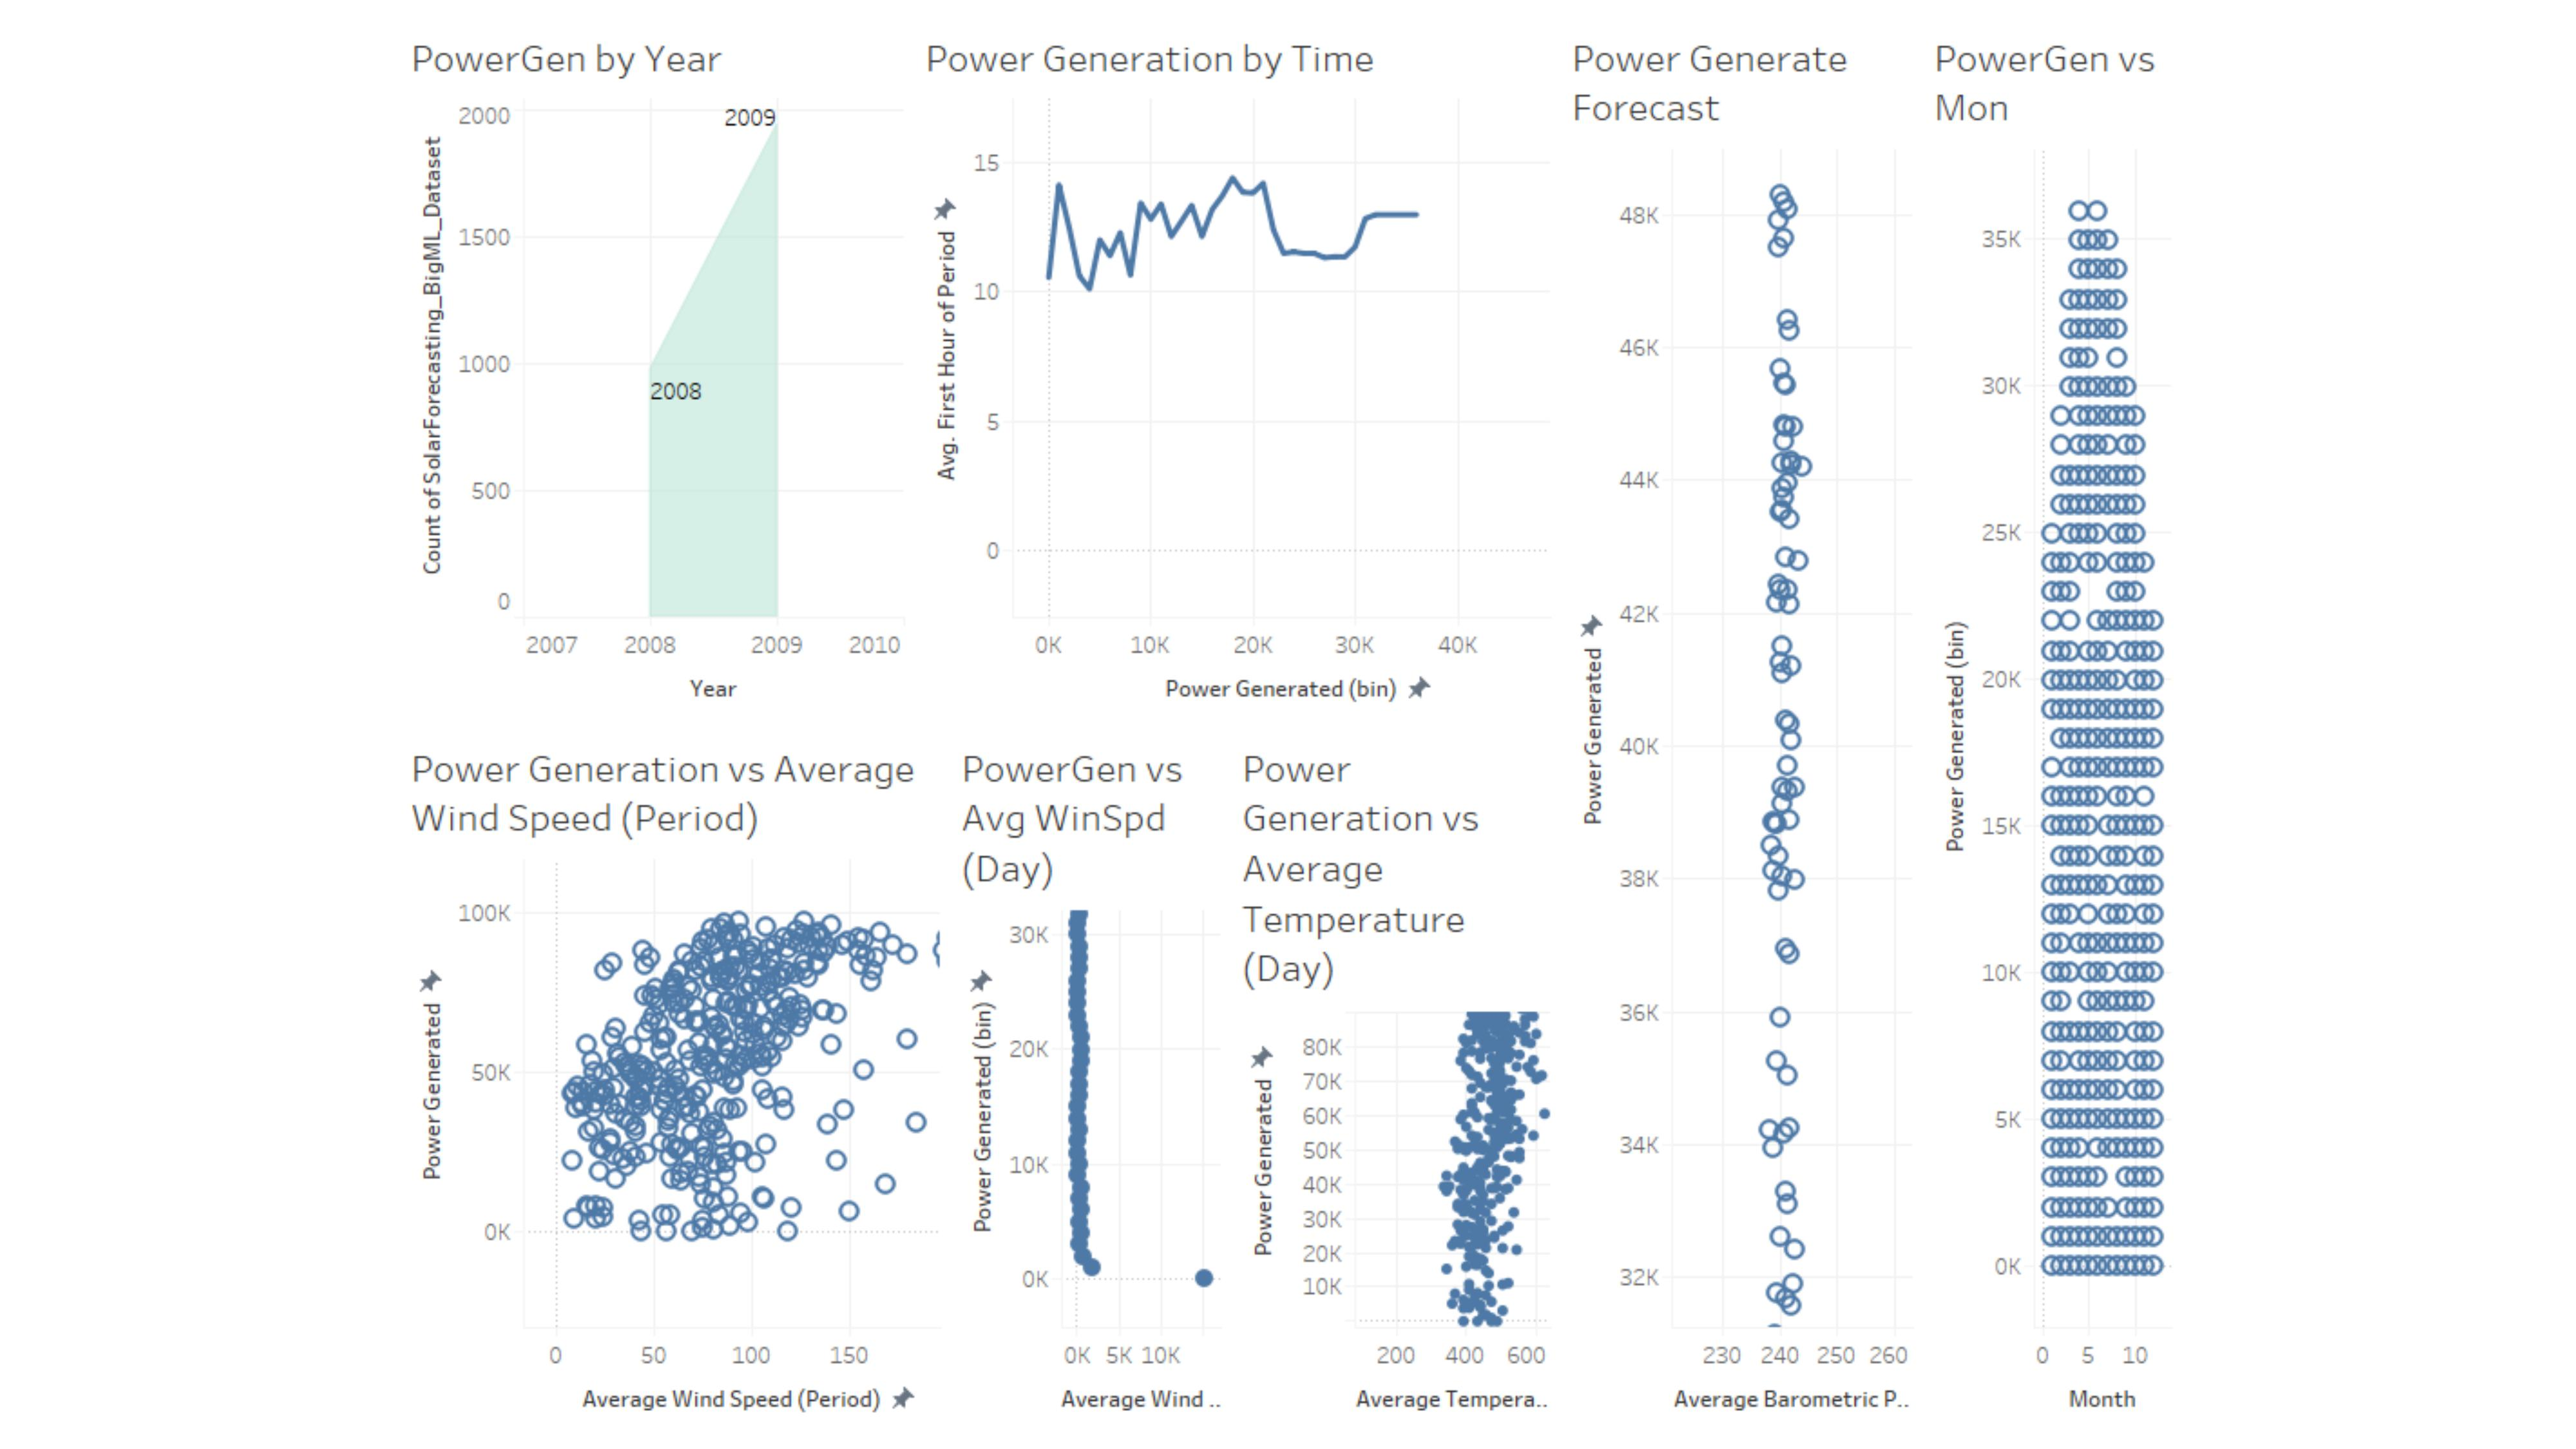

What the dashboard file says about the page in this screenshot:
{"tool":"tableau","page":{"name":"Dashboard 1","canvas":[1000,800],"ordinal":0},"visuals":[{"type":"worksheet","title":"PowerGen by Year","mark":"Automatic","rows":["SolarForecasting!BigML!Dataset_02FA9F74CD1E46FBA5091F5249823"],"cols":["Year"],"box":[8,8,284.4,392]},{"type":"worksheet","title":"Power Generation by Time","mark":"Line","rows":["First Hour of Period"],"cols":["Power Generated (bin)"],"box":[292.4,8,356.6,392]},{"type":"worksheet","title":"Power Generate Forecast","mark":"Automatic","rows":["Power Generated"],"cols":["Average Barometric Pressure (Period)"],"box":[649,8,200,784]},{"type":"worksheet","title":"PowerGen vs Mon","mark":"Automatic","rows":["Power Generated (bin)"],"cols":["Month"],"box":[849,8,143,784]},{"type":"worksheet","title":"Power Generation vs Average Wind Speed (Period)","mark":"Automatic","rows":["Power Generated"],"cols":["Average Wind Speed (Period)"],"box":[8,400,303.9,392]},{"type":"worksheet","title":"PowerGen vs Avg WinSpd (Day)","mark":"Circle","rows":["Power Generated (bin)"],"cols":["Average Wind Speed (Day)"],"box":[311.9,400,154.9,392]},{"type":"worksheet","title":"Power Generation vs Average Temperature (Day)","mark":"Line","rows":["Power Generated"],"cols":["Average Temperature (Day)"],"box":[466.8,400,182.2,392]}]}

Visuals, with their boxes on the page's 1000x800 design canvas (x1, y1, x2, y2). These are canvas units, not pixel positions in the 2576x1449 screenshot, which may show the page scaled, cropped or inside an application window:
"PowerGen by Year" worksheet: (8, 8, 292, 400)
"Power Generation by Time" worksheet (Line marks): (292, 8, 649, 400)
"Power Generate Forecast" worksheet: (649, 8, 849, 792)
"PowerGen vs Mon" worksheet: (849, 8, 992, 792)
"Power Generation vs Average Wind Speed (Period)" worksheet: (8, 400, 312, 792)
"PowerGen vs Avg WinSpd (Day)" worksheet (Circle marks): (312, 400, 467, 792)
"Power Generation vs Average Temperature (Day)" worksheet (Line marks): (467, 400, 649, 792)
